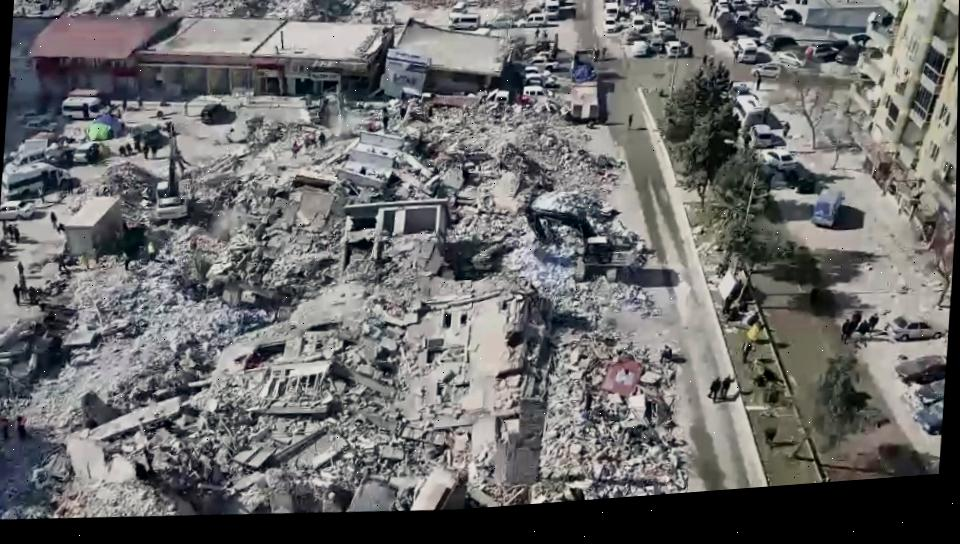kapali: (217, 105, 603, 148)
